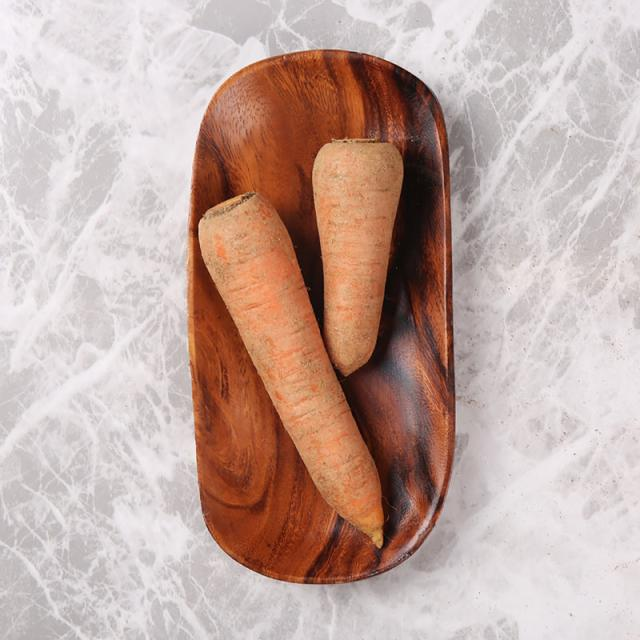carrot: (197, 192, 397, 552), (312, 137, 406, 379)
